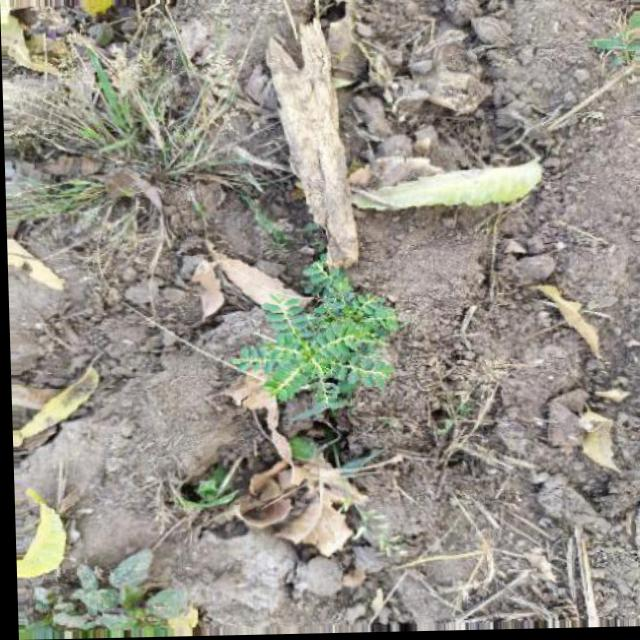weed: (9, 30, 246, 230), (215, 253, 413, 420)
